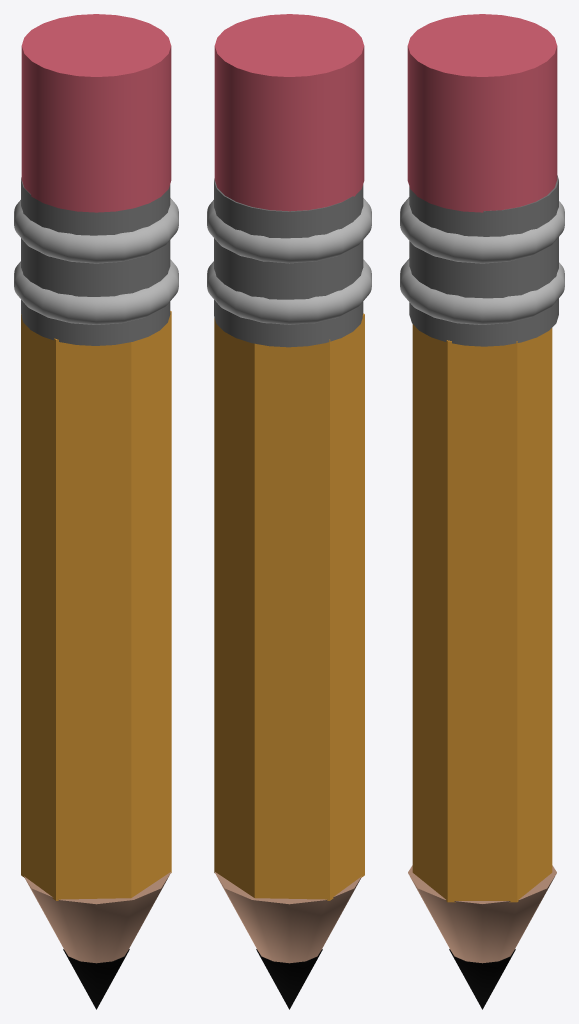
Rendered from pencil.dae.
3 views of the same model, side by side, from view 1: azimuth 30°, elevation 25°; view 2: azimuth 150°, elevation 25°; view 3: azimuth 270°, elevation 25° (orthographic).
Parts seen in each view (by area): view 1: Cylinder2, Cylinder, Cylinder1, Cone, Torus, Torus1, Cone1; view 2: Cylinder2, Cylinder, Cylinder1, Cone, Torus, Torus1, Cone1; view 3: Cylinder2, Cylinder, Cylinder1, Cone, Torus1, Torus, Cone1.
Boxes of the visible parts, bbox=[...] form: Cylinder2: bbox=[21, 311, 171, 900]; Cylinder: bbox=[21, 14, 171, 212]; Cylinder1: bbox=[21, 177, 170, 345]; Cone: bbox=[24, 872, 170, 963]; Torus: bbox=[14, 259, 178, 324]; Torus1: bbox=[14, 198, 178, 263]; Cone1: bbox=[63, 949, 129, 1009]; Cylinder2: bbox=[214, 313, 364, 900]; Cylinder: bbox=[214, 14, 364, 211]; Cylinder1: bbox=[214, 178, 363, 347]; Cone: bbox=[215, 872, 361, 963]; Torus: bbox=[207, 259, 371, 324]; Torus1: bbox=[207, 198, 371, 263]; Cone1: bbox=[256, 949, 322, 1009]; Cylinder2: bbox=[412, 324, 552, 902]; Cylinder: bbox=[407, 14, 557, 212]; Cylinder1: bbox=[409, 175, 558, 346]; Cone: bbox=[408, 865, 556, 963]; Torus1: bbox=[400, 197, 564, 263]; Torus: bbox=[400, 258, 564, 324]; Cone1: bbox=[449, 949, 515, 1009].
Size of the model in its own units: 1.12 by 7.12 by 1.1.
